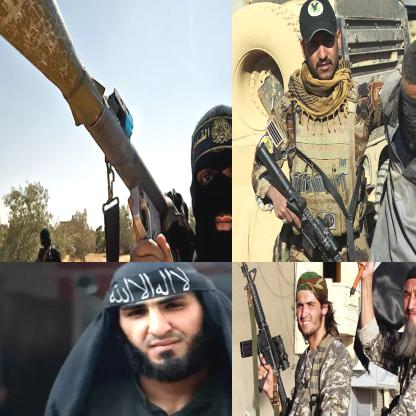rifle: (0, 0, 193, 261), (253, 138, 378, 261), (232, 262, 292, 415)
